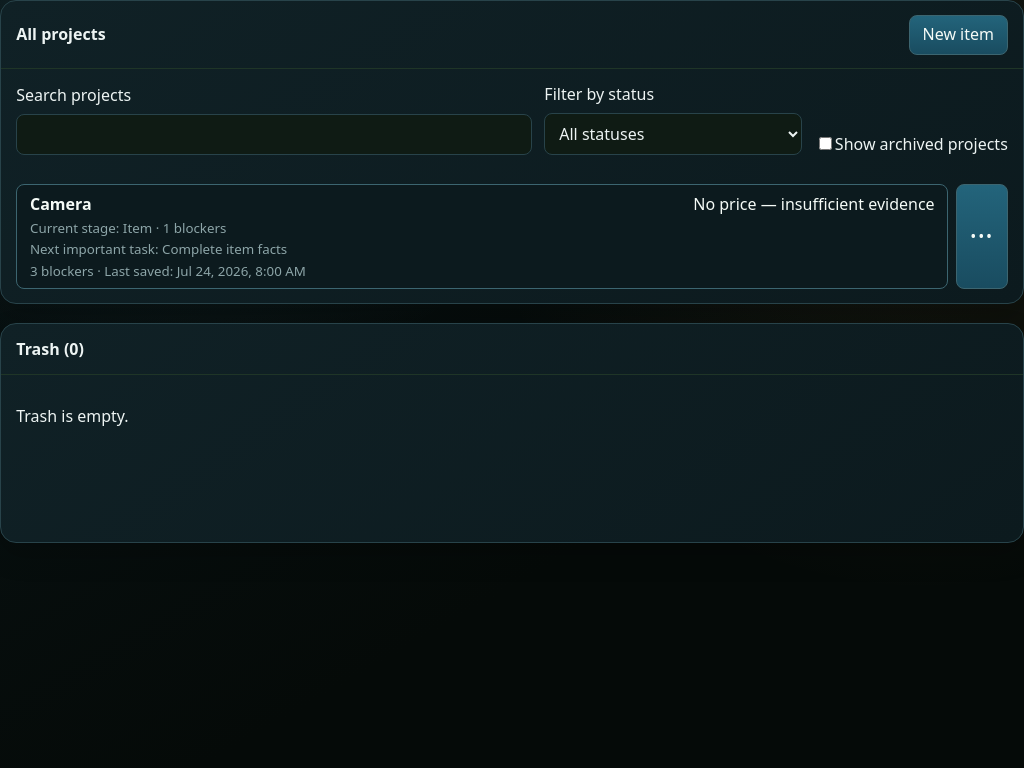
ProjectDashboard › moves a project to trash without opening it
Step 1. Click the button "•••" → (982, 237), box x1=956 y1=184 x2=1008 y2=289
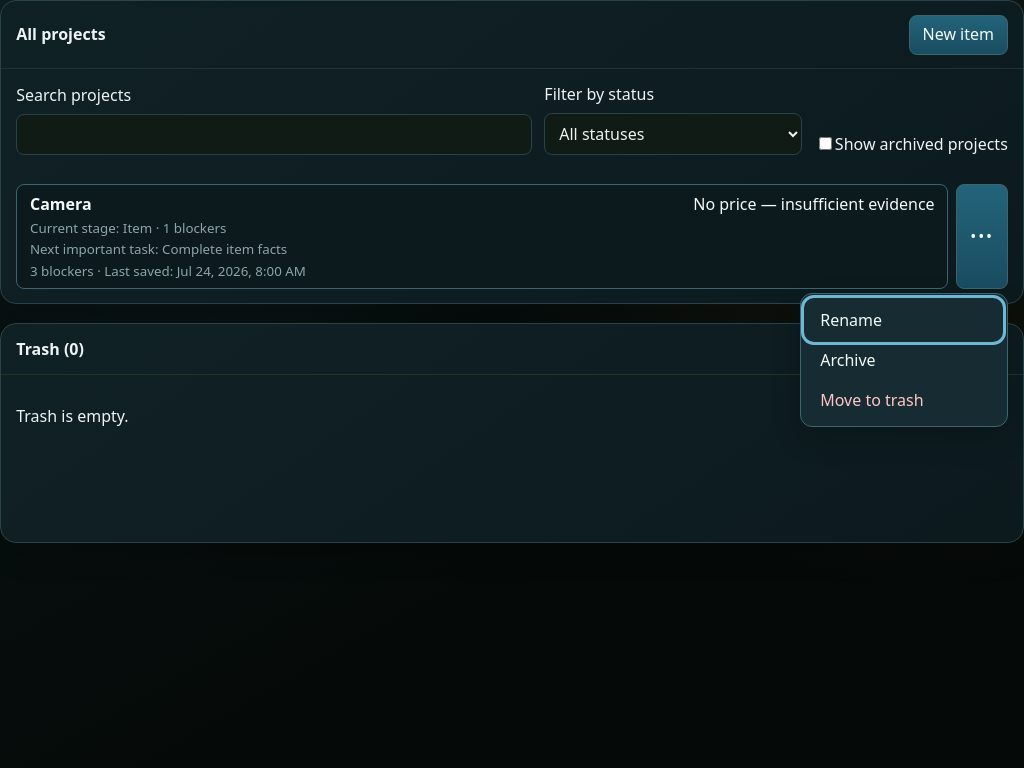
Step 2. Click the menu item "Move to trash" → (904, 400), box x1=806 y1=380 x2=1001 y2=420
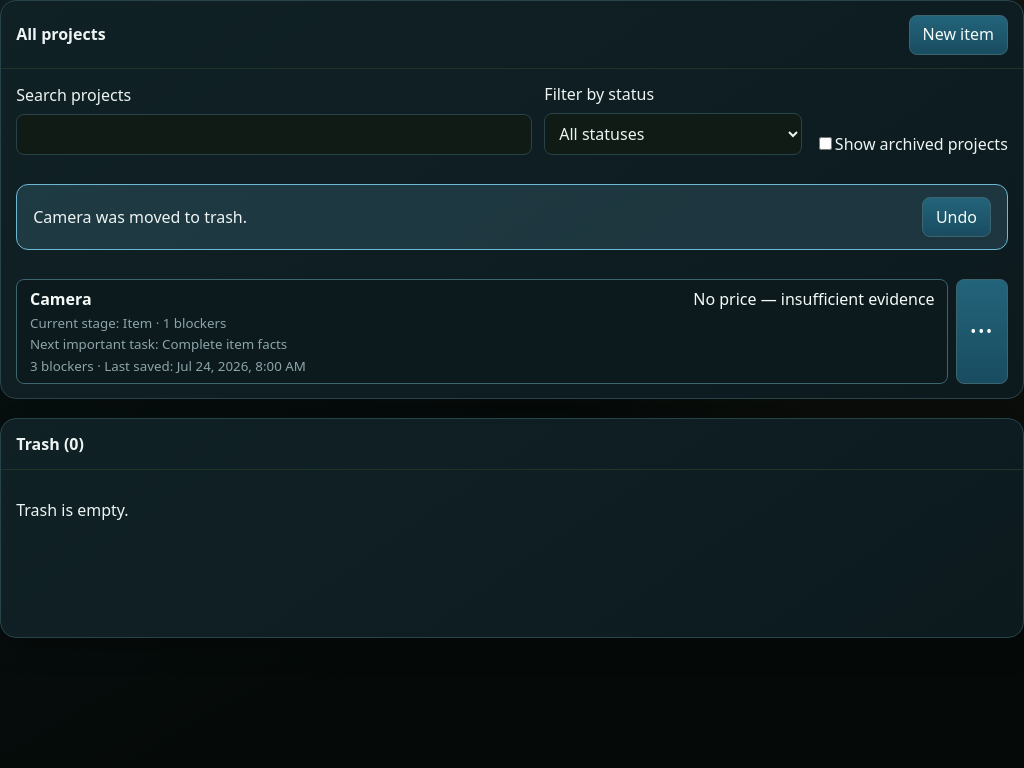
Expected: the message reads "Camera was moved to trash. Undo", x1=33 y1=206 x2=247 y2=228
